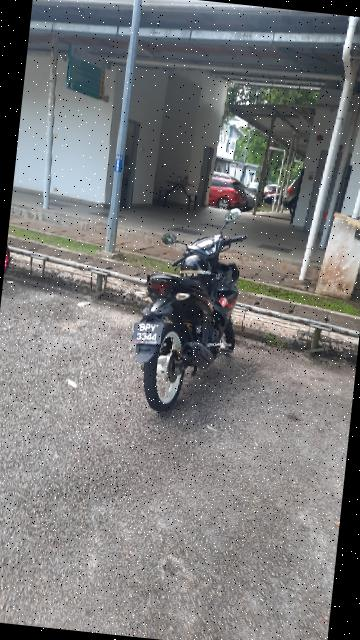License_Plate: (132, 320, 167, 350)
motorcycle: (123, 197, 260, 421)
